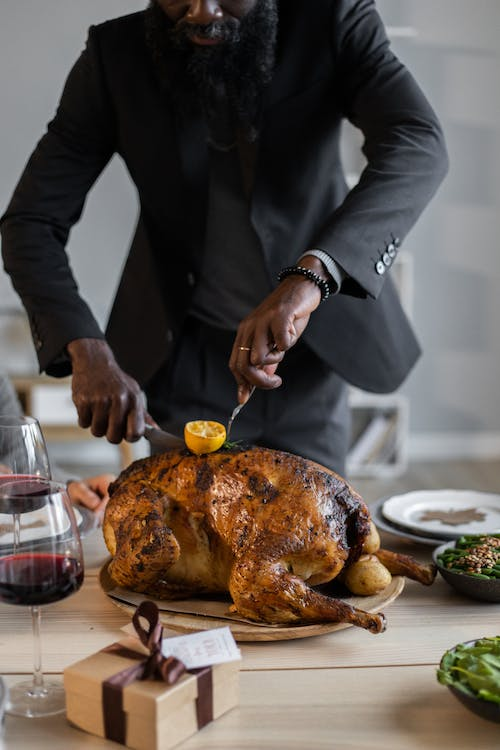alcohol: (0, 479, 86, 720), (0, 413, 53, 554)
knife: (141, 419, 193, 450)
